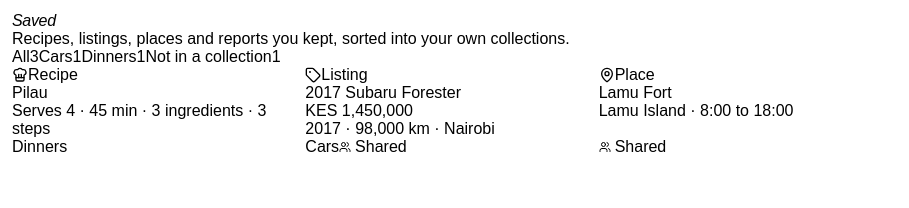
it: one card › keeps another member's shared card read-only
Click the button "Place Lamu Fort Lamu Island · 8:00 to 18:00 Shared" at (745, 111), box [599,66,892,156]
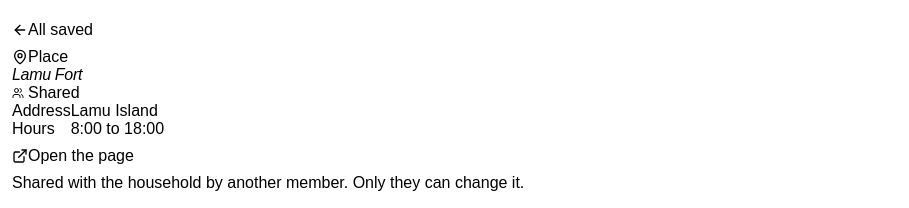
Result: the text "Only they can change it" is shown at [12,174,524,191]
